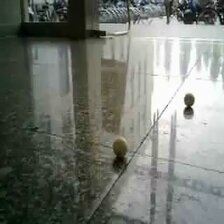w: (112, 137, 131, 158), (183, 93, 196, 107)
